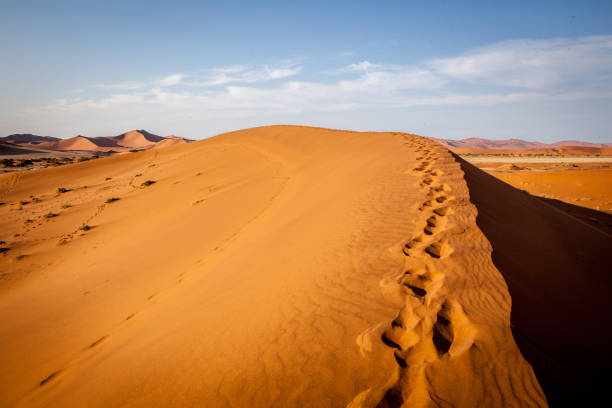human_footprint: (381, 146, 464, 404), (380, 268, 476, 405), (382, 234, 449, 365), (381, 288, 476, 368), (381, 290, 476, 367), (382, 264, 443, 350), (403, 199, 451, 261), (381, 293, 427, 351), (432, 300, 476, 357), (399, 268, 443, 301), (432, 304, 453, 356), (418, 184, 452, 210), (402, 233, 431, 255), (39, 366, 69, 386), (423, 208, 444, 235), (424, 241, 452, 258), (419, 169, 439, 190), (402, 236, 424, 255), (39, 370, 62, 386), (425, 213, 442, 232), (88, 335, 107, 347), (433, 206, 449, 216), (430, 184, 450, 192), (418, 200, 432, 211), (414, 161, 429, 171), (435, 194, 449, 203), (425, 169, 443, 176), (420, 177, 433, 186), (423, 225, 434, 235), (413, 165, 424, 171), (420, 160, 429, 167), (416, 156, 423, 161)
